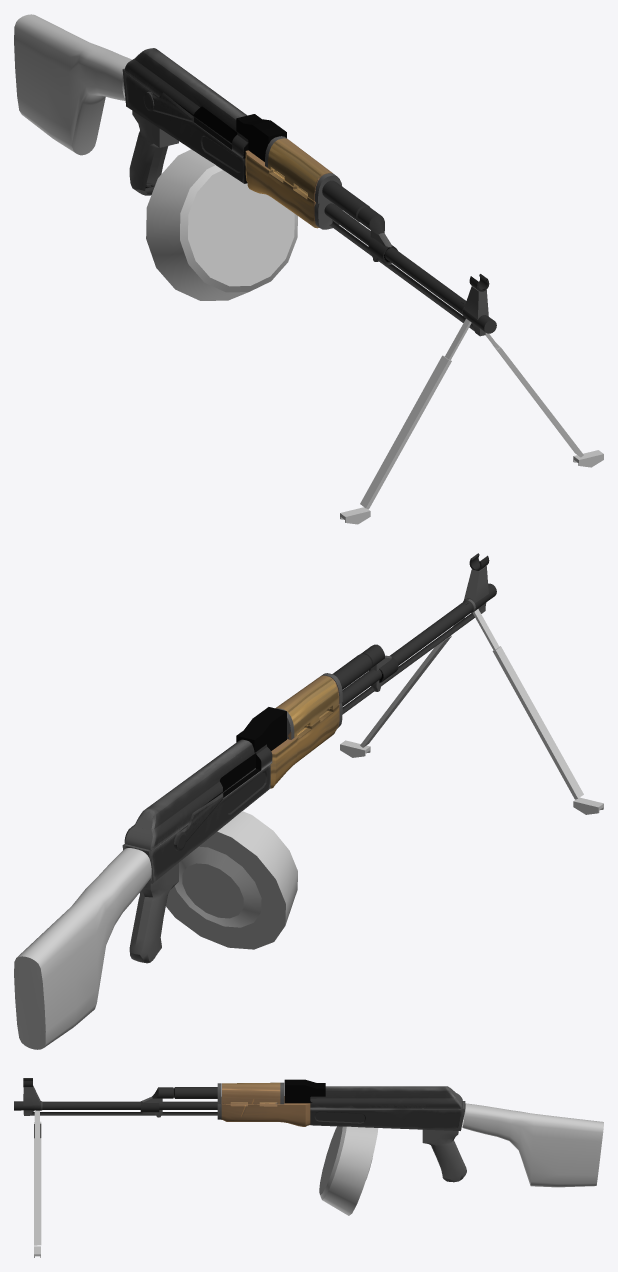
The model's file is RPK.fbx.
3 renders of one model, top to bottom at view 1: azimuth 30°, elevation 25°; view 2: azimuth 150°, elevation 25°; view 3: azimuth 270°, elevation 25°, orthographic. The views are drawn at different scales.
Visible parts, largest first — view 1: AKVRPK; view 2: AKVRPK; view 3: AKVRPK.
Boxes of the visible parts, x1,y1,x2,y2 form: AKVRPK: [14, 14, 603, 524]; AKVRPK: [14, 553, 603, 1049]; AKVRPK: [14, 1078, 603, 1257].
Size of the model in its own units: 29.02 by 23.81 by 90.16.
